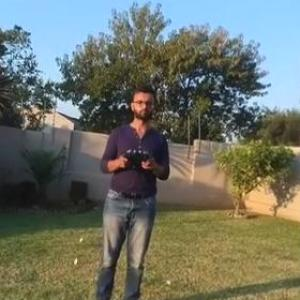follow: (90, 69, 174, 299)
